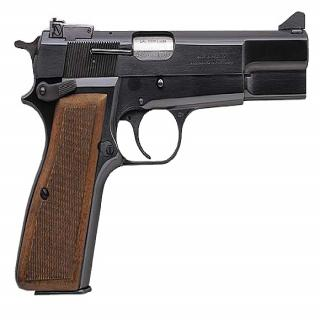gun: (3, 7, 314, 303)
